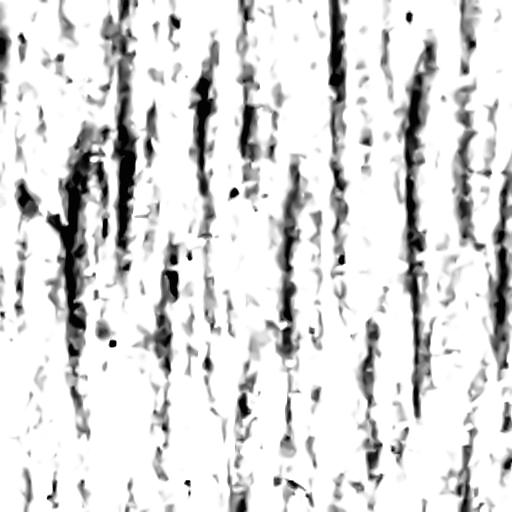egg: (120, 155, 134, 197), (166, 270, 177, 298), (330, 74, 339, 84)
